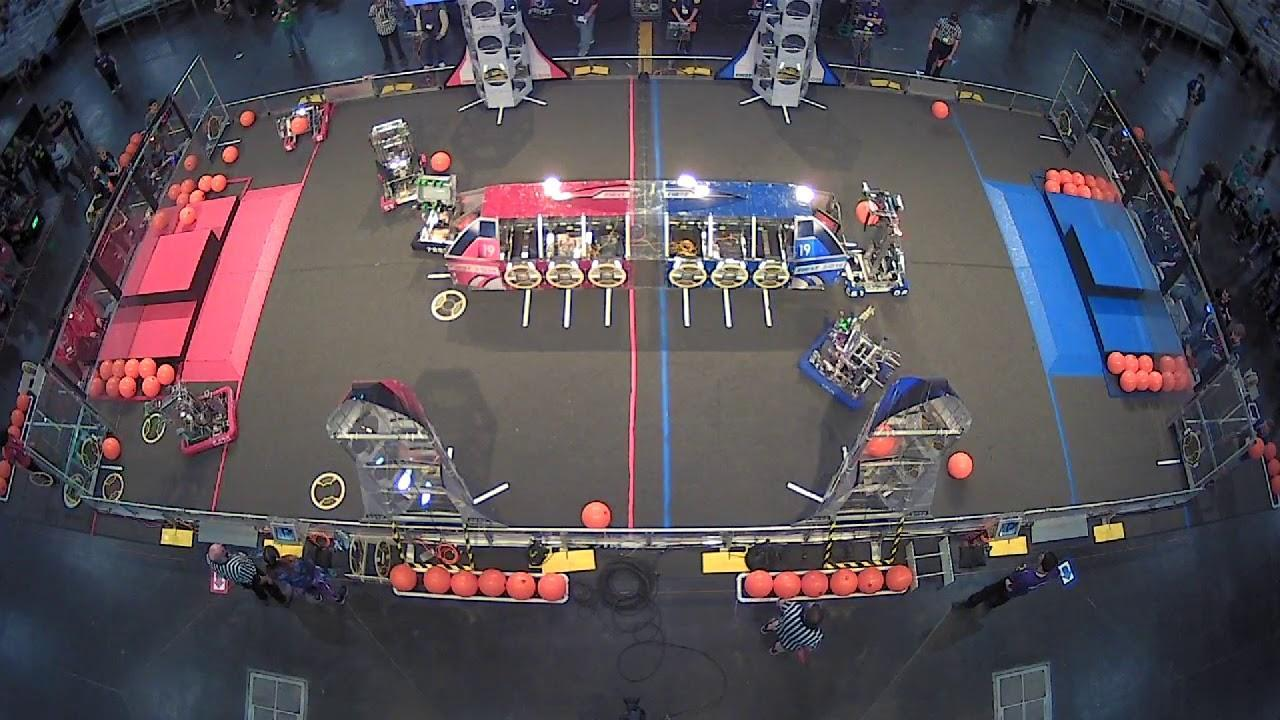robot: (795, 304, 902, 418), (844, 179, 911, 301), (156, 375, 241, 457), (369, 114, 427, 219), (411, 173, 466, 258), (275, 84, 338, 157)
